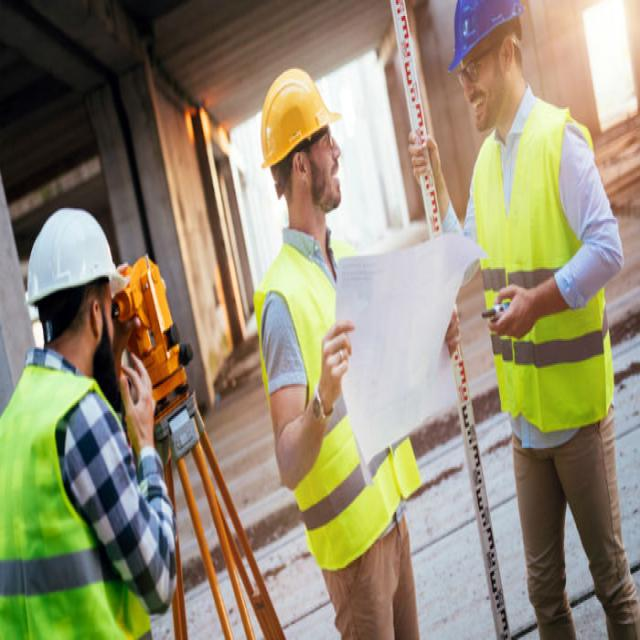Reflective-Jacket: (252, 242, 422, 580), (470, 104, 615, 440), (0, 360, 165, 640)
Safety-Helmet: (21, 198, 126, 314), (257, 60, 343, 170), (447, 0, 527, 75)
